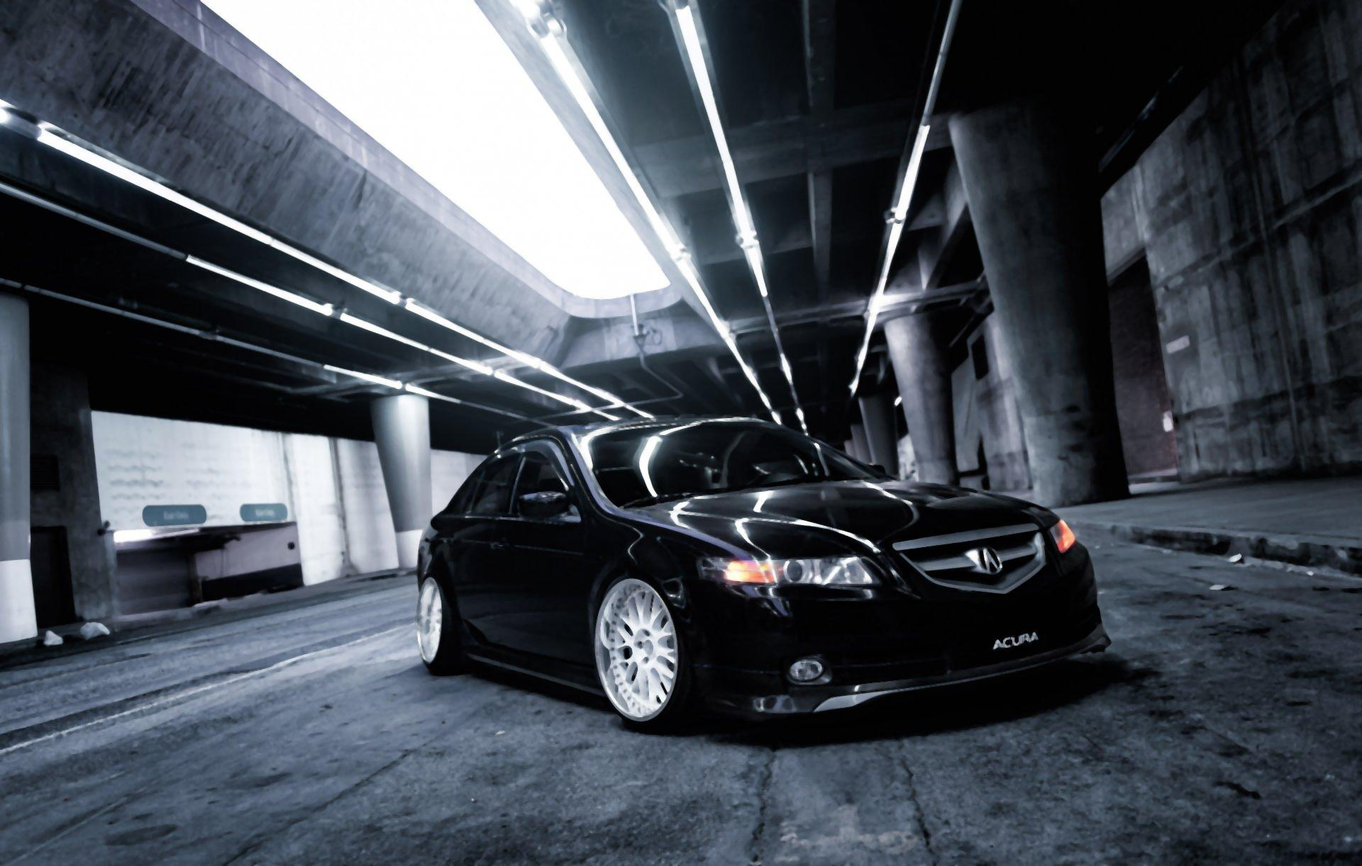Car hood: (627, 471, 1067, 564)
Driver-s door - -F-R-: (490, 431, 608, 688)
Fender - -F-R-: (562, 491, 648, 668)
Front bumper: (728, 620, 1112, 756)
Headlight - -L-: (1049, 509, 1076, 563)
Headlight - -R-: (696, 554, 894, 601)
Passenger-s door - -R-R-: (446, 429, 533, 659)
Side bumper - -R-: (448, 638, 611, 719)
Side mirror - -R-: (511, 491, 576, 516)
